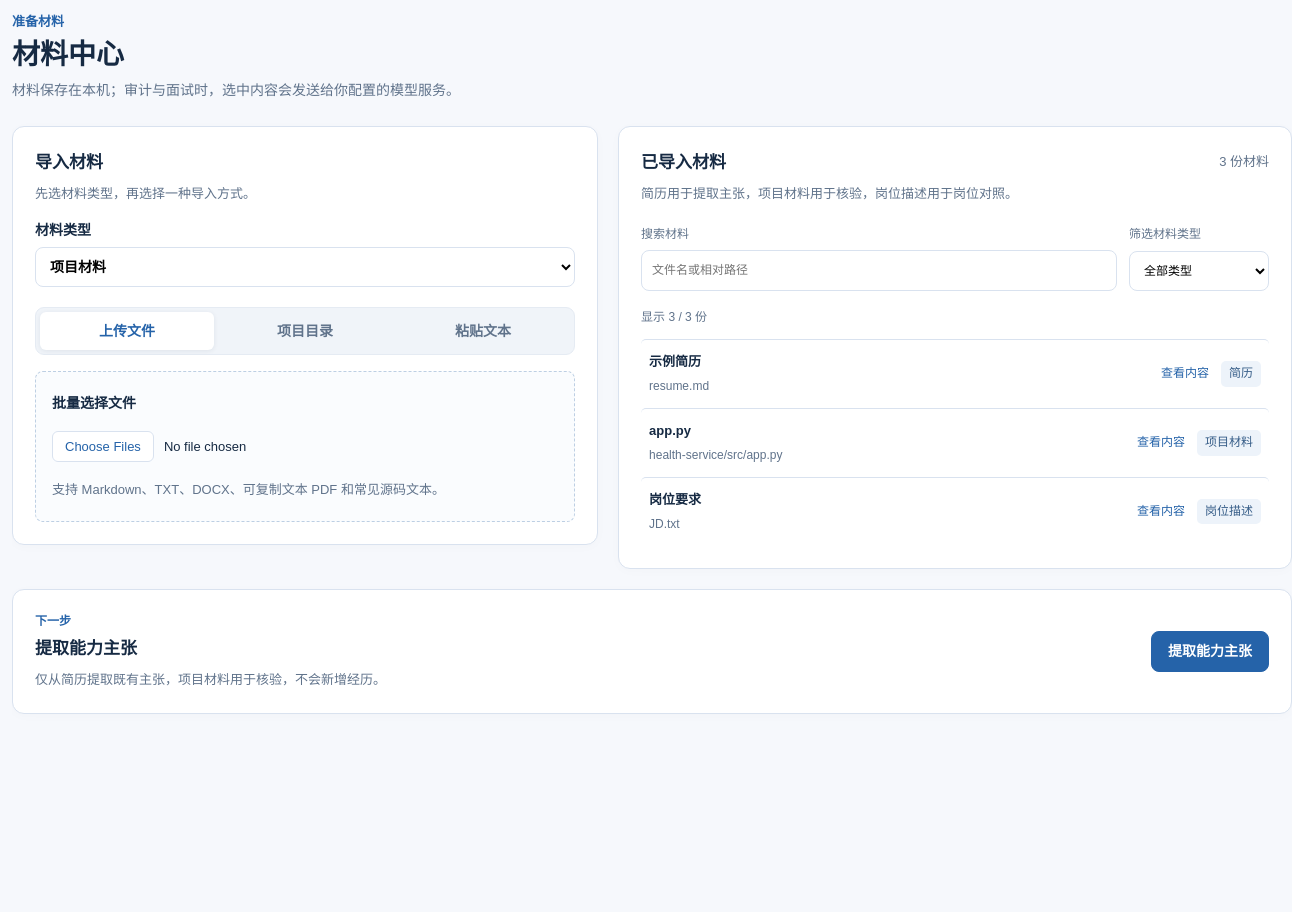
it: 按名称和路径搜索、类型组合筛选，不请求服务或改变导入草稿
Click the button "粘贴文本" at (483, 331), box x1=396 y1=312 x2=570 y2=350
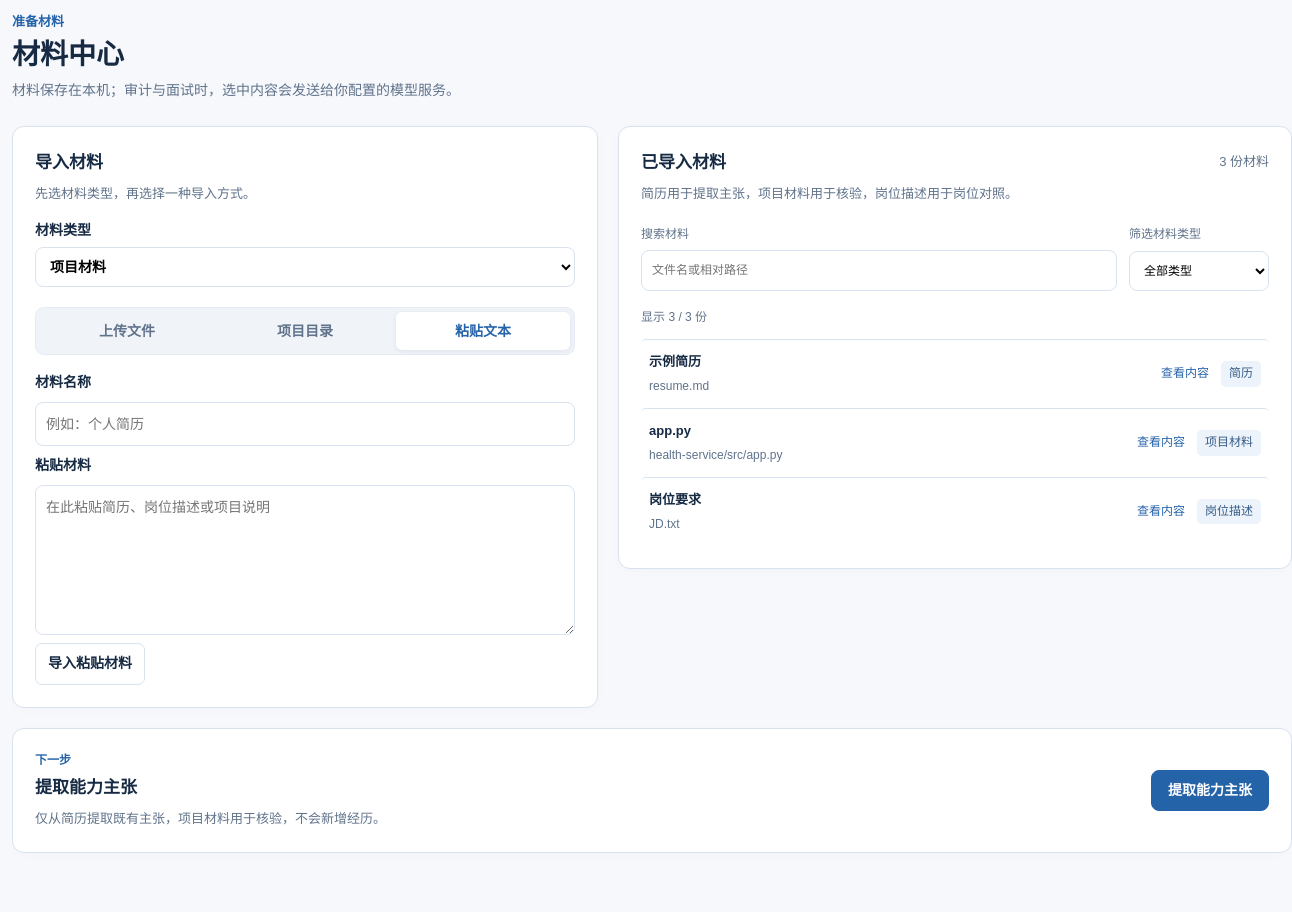
Type "未提交草稿" into the field labelled "材料名称" at (305, 424), box x1=35 y1=402 x2=575 y2=446
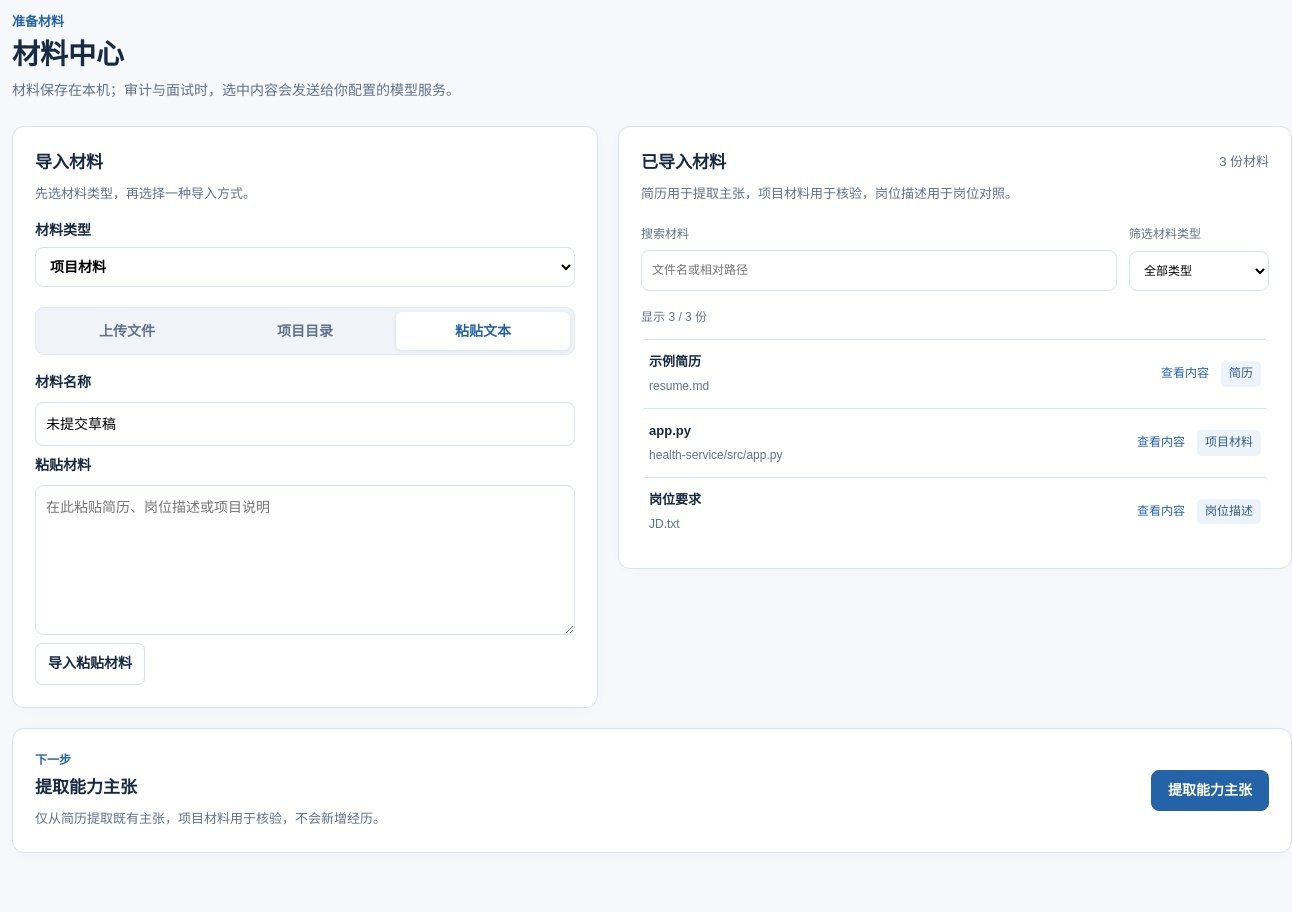
Type "示例" into the search field labelled "搜索材料" at (879, 270), box x1=641 y1=250 x2=1117 y2=291
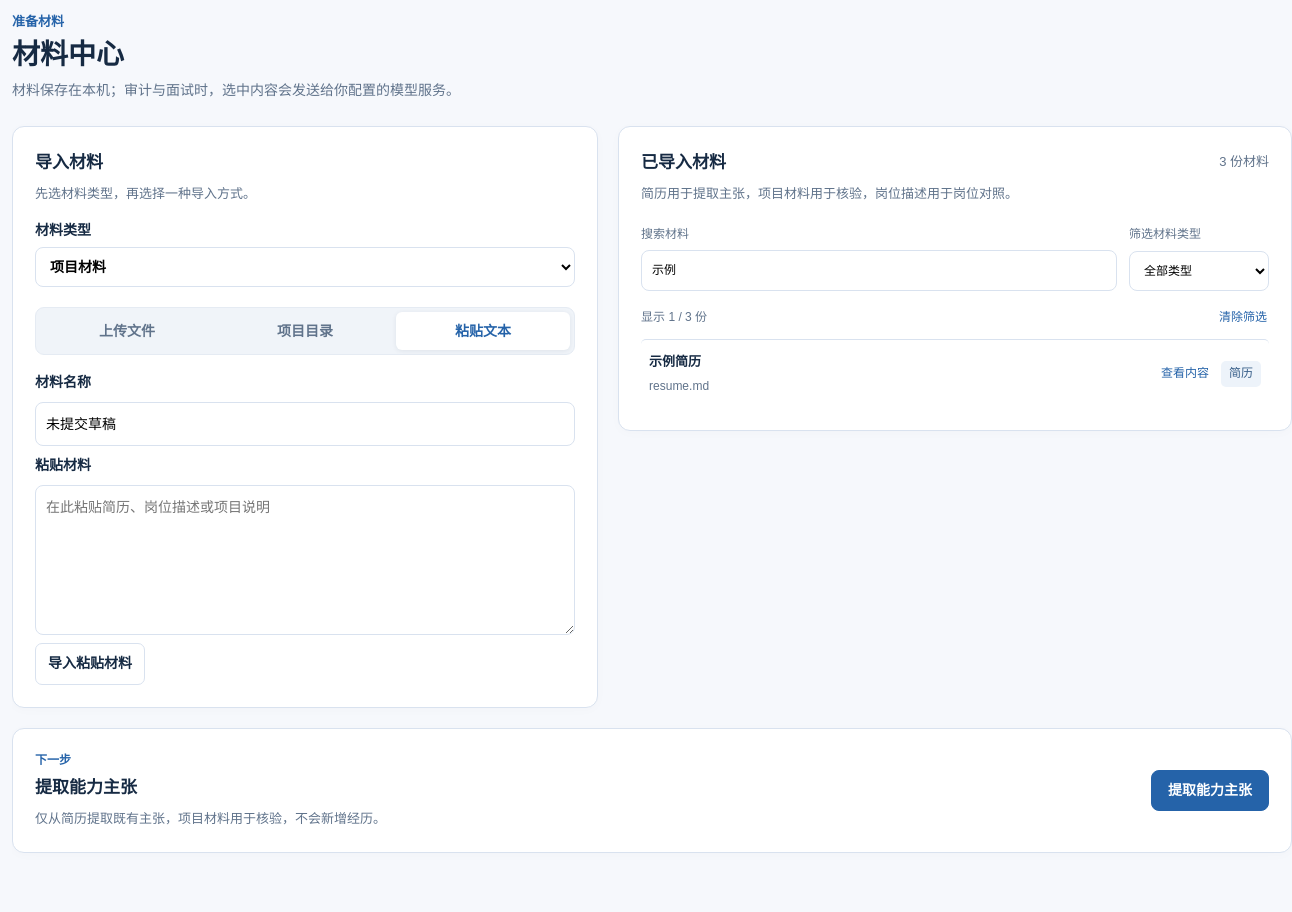
Expected: the text "示例简历" is shown, x1=649 y1=352 x2=709 y2=373
Result: the button "app.py" is gone
Replace the text in the search field labelled "搜索材料" with " HEALTH-SERVICE " at (879, 270), box x1=641 y1=250 x2=1117 y2=291
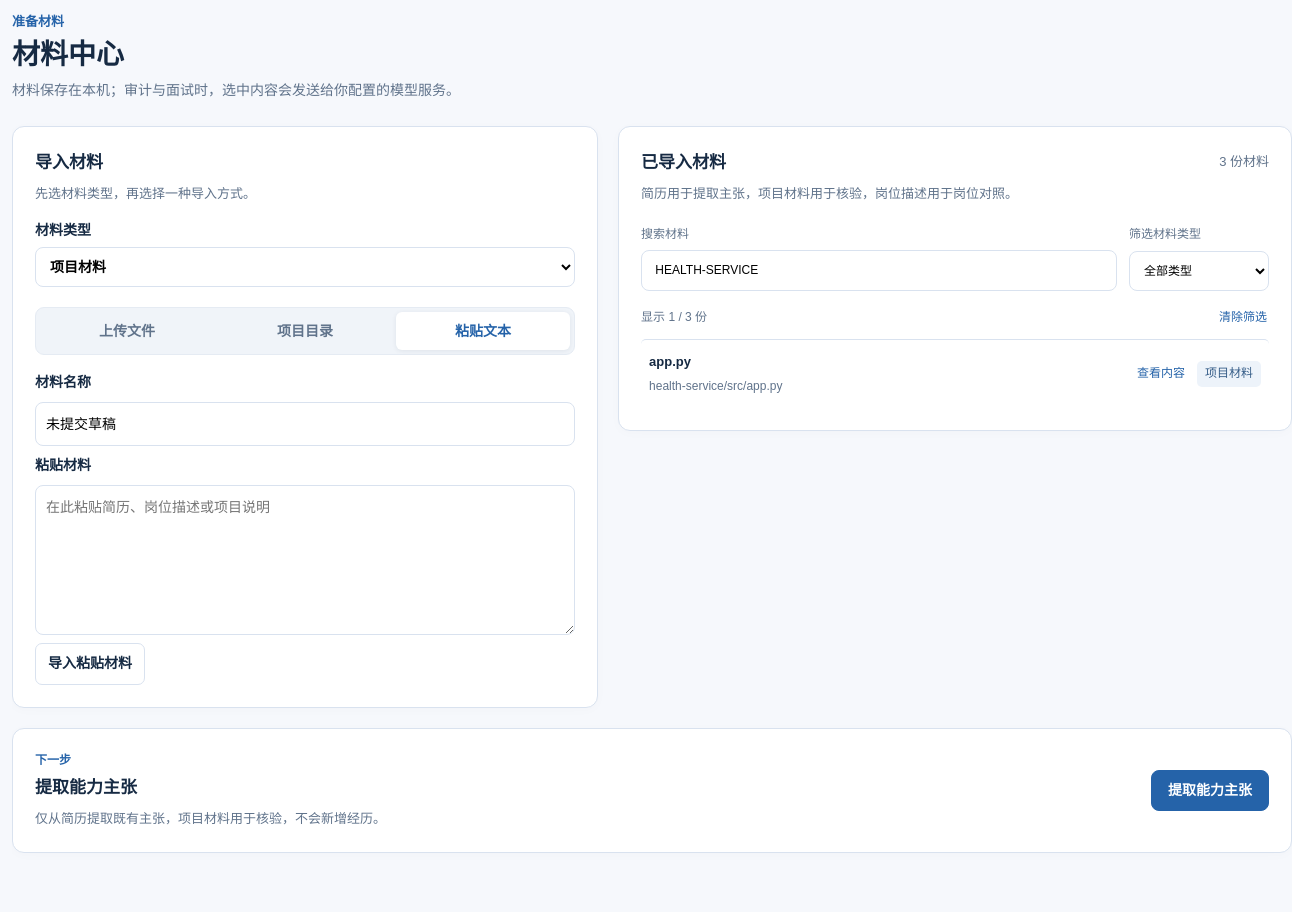
Result: the text "app.py" is shown at x1=649 y1=354 x2=691 y2=369
Result: the button "示例简历" is gone
Select "简历" in the dropdown labelled "筛选材料类型" at (1199, 271), box x1=1129 y1=251 x2=1269 y2=291
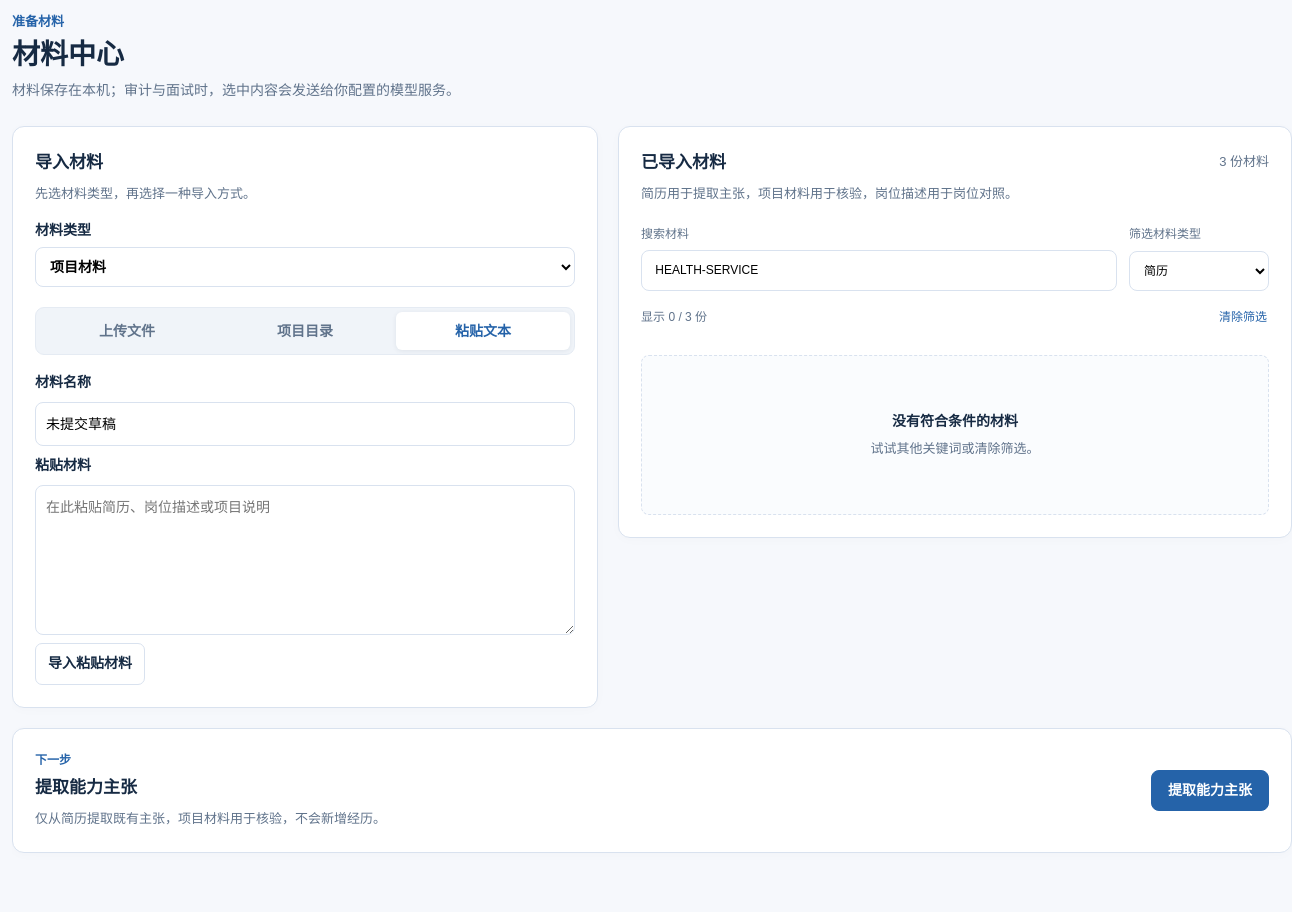
Result: the text "没有符合条件的材料" is shown at x1=892 y1=413 x2=1018 y2=429
Click the button "清除筛选" at (1243, 318), box x1=1217 y1=303 x2=1269 y2=332
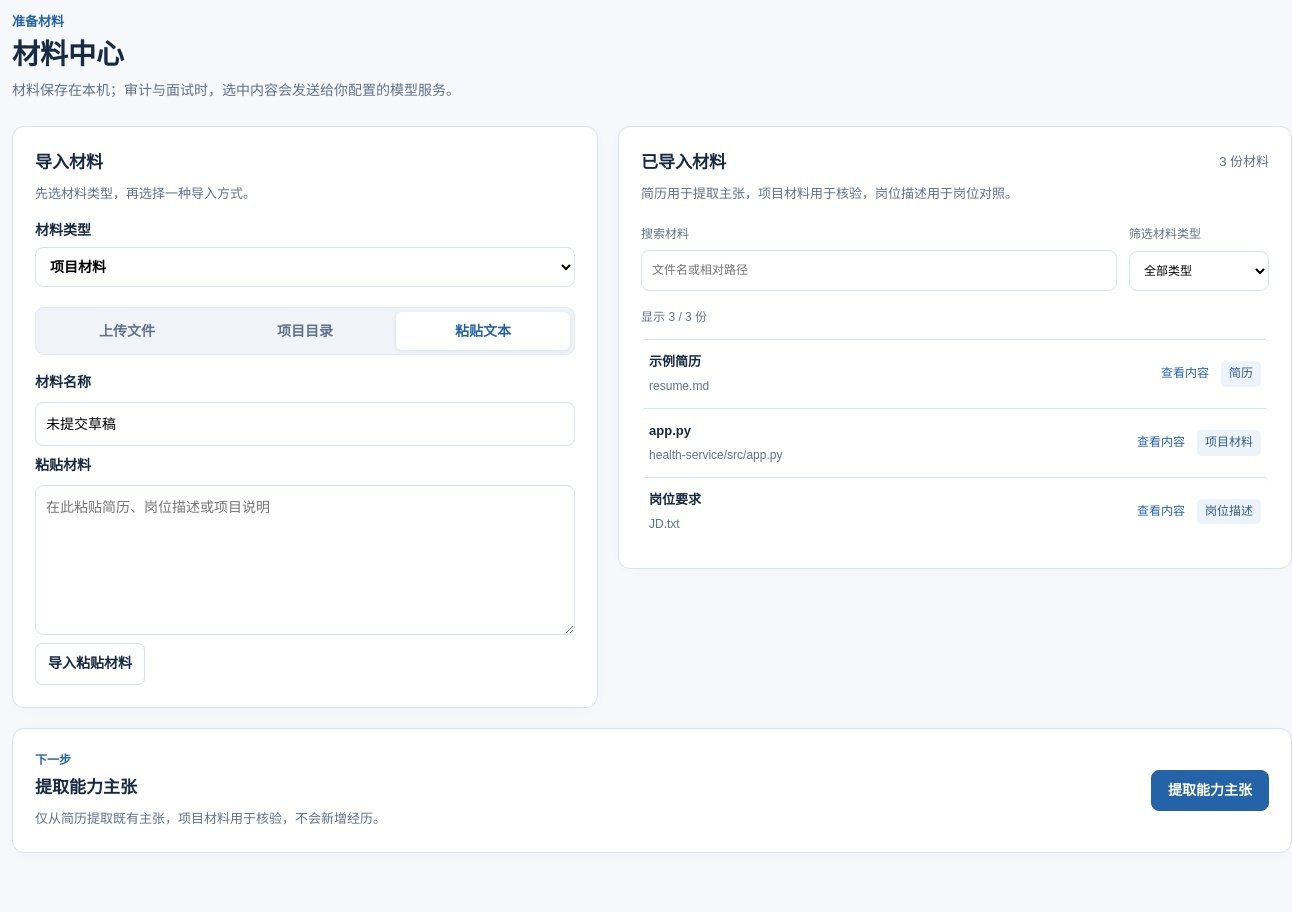
Result: the text "示例简历" is shown at x1=649 y1=352 x2=709 y2=373
